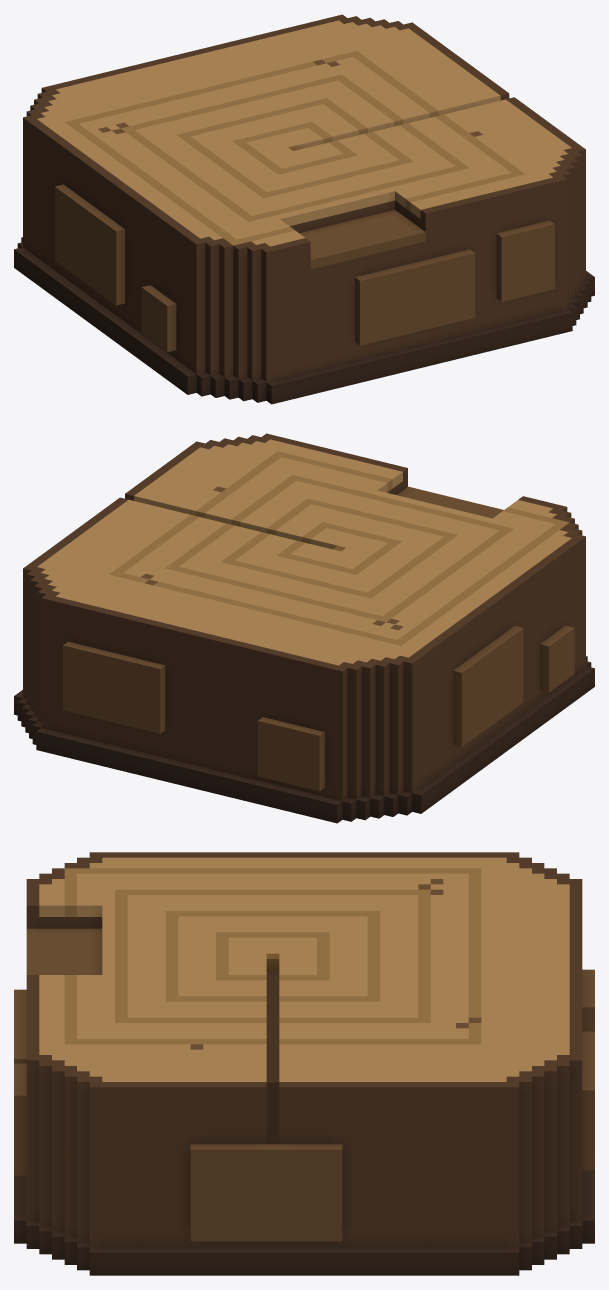
File: crude_workbench.glb
3 renders of one model, top to bottom at view 1: azimuth 30°, elevation 25°; view 2: azimuth 150°, elevation 25°; view 3: azimuth 270°, elevation 25°, orthographic. The views are drawn at different scales.
Visible parts, largest first — view 1: VoxelVisual; view 2: VoxelVisual; view 3: VoxelVisual.
Part boxes in pixels (box(x1,y1,x2,y2)): VoxelVisual: box(14, 14, 594, 404); VoxelVisual: box(14, 433, 594, 823); VoxelVisual: box(14, 852, 594, 1275).
Size of what is drawn, in the model's own units: 2.88 by 1 by 2.88.
